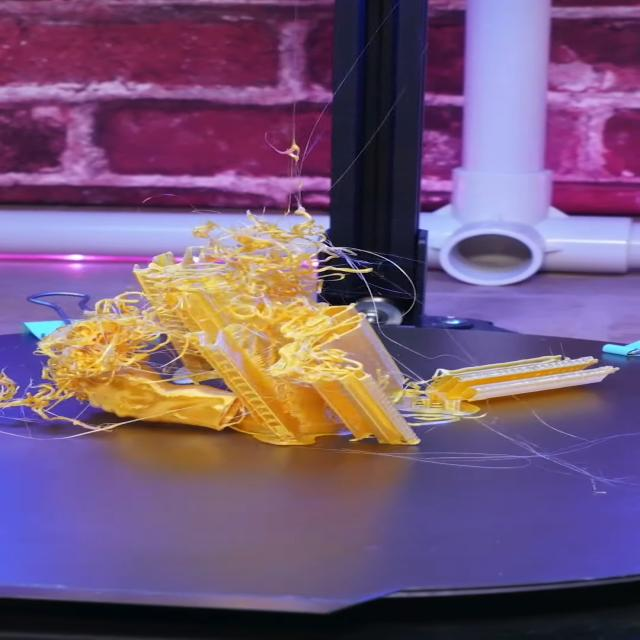spaghetti: (0, 206, 483, 442)
